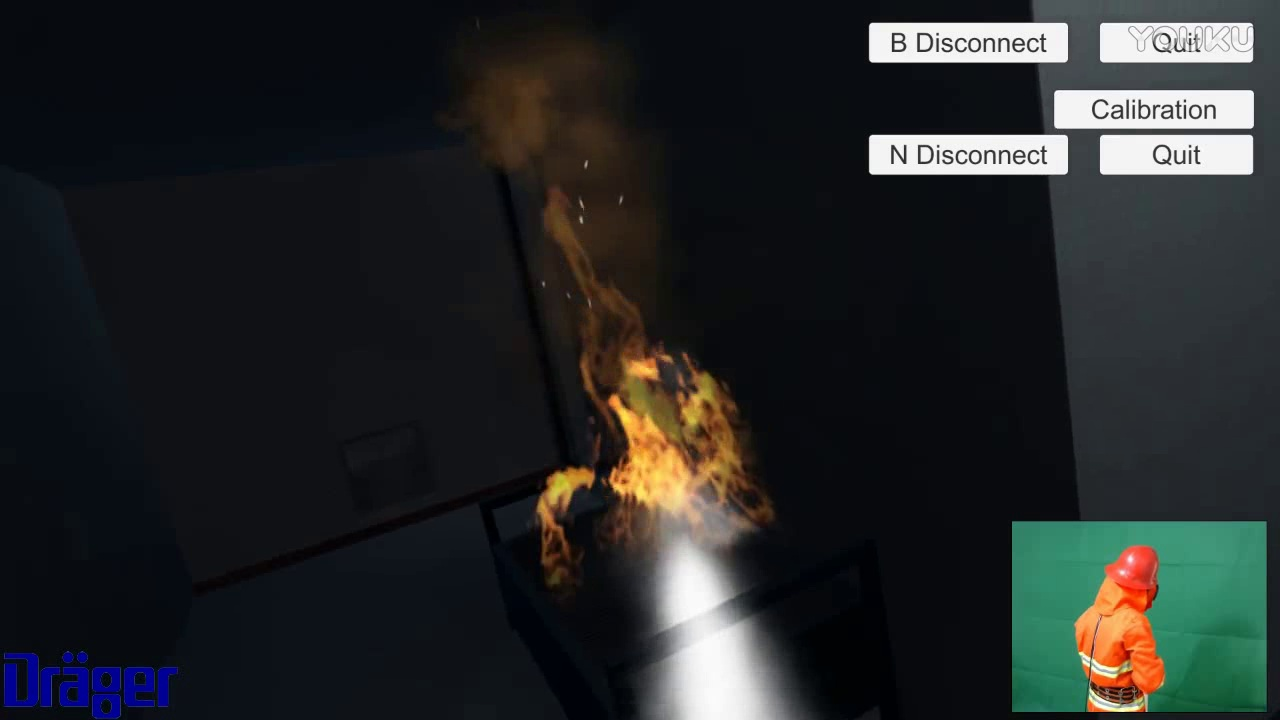fire: (495, 186, 769, 604)
